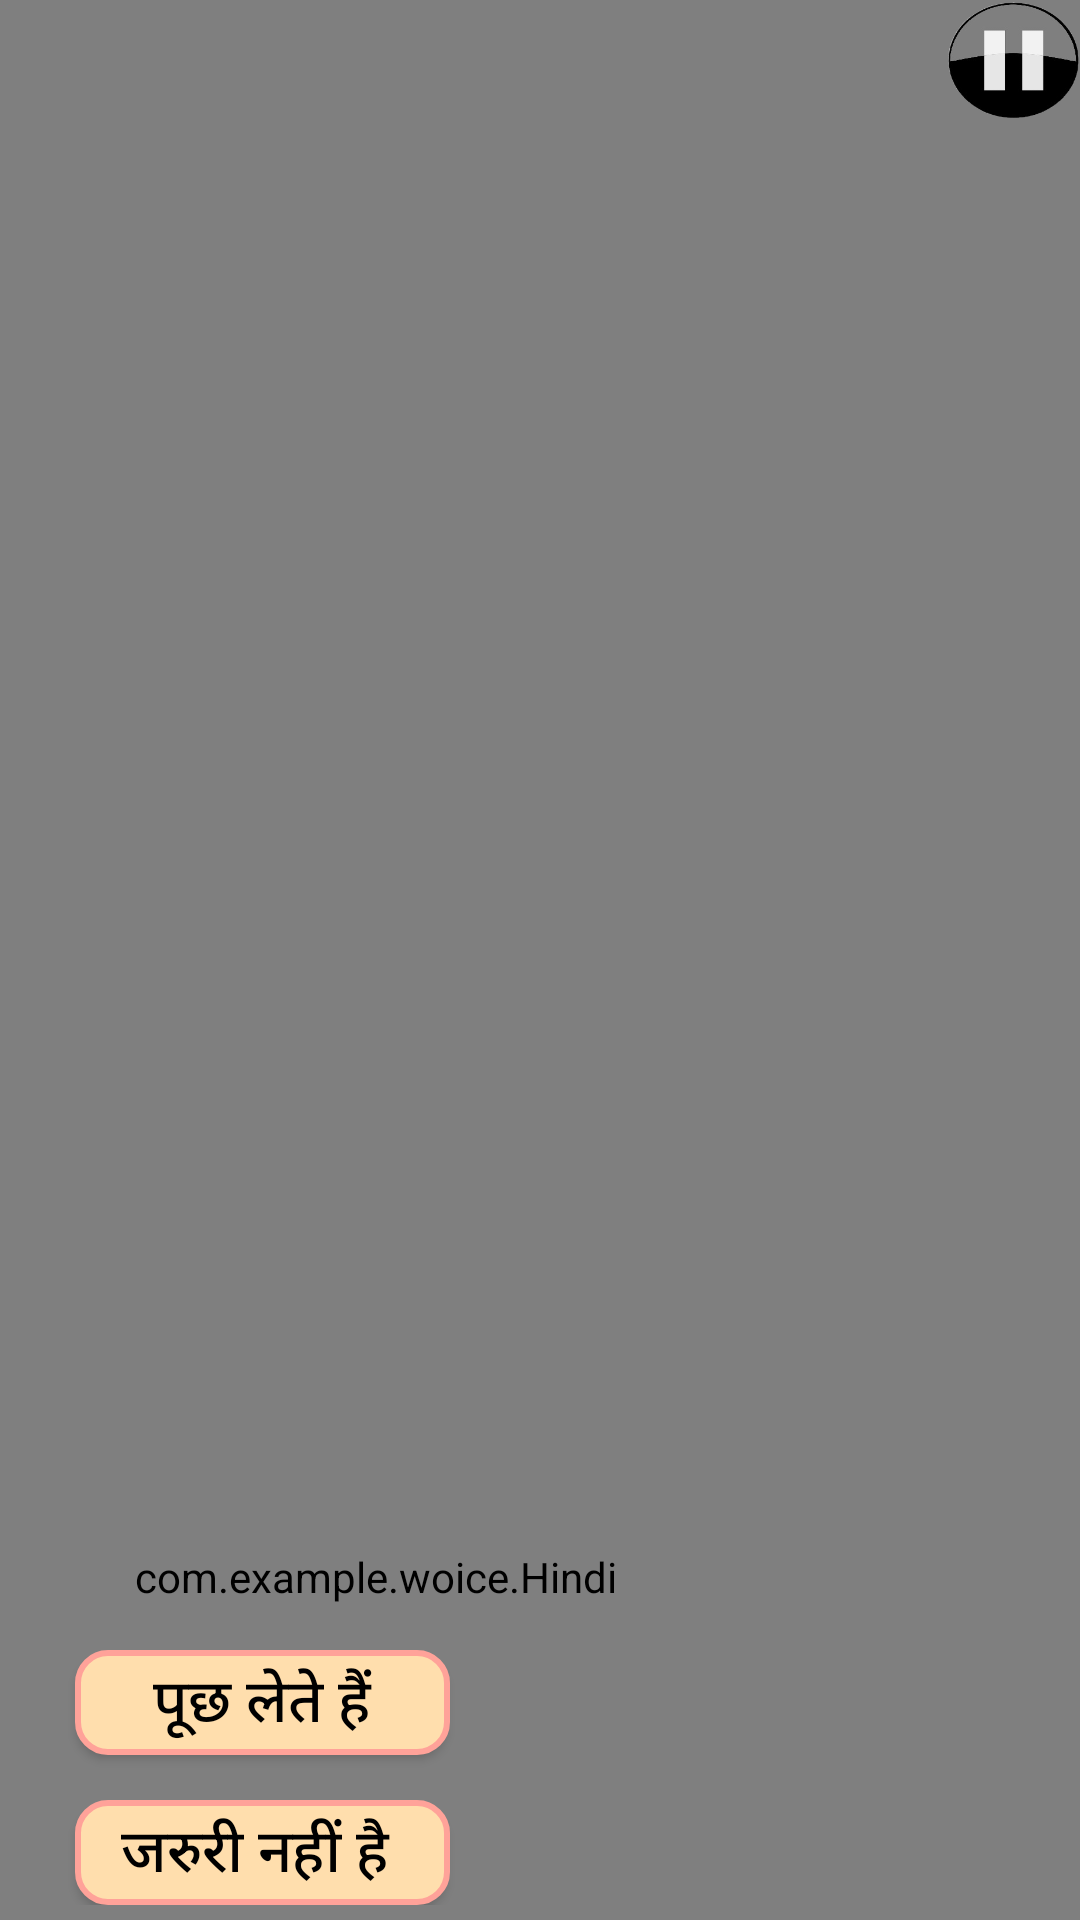

Locate icon controls on the screen. Image size 1080 × 1920, boxes as (x1, y1, x2, y2).
pauseicon: (949, 2, 1079, 118)
